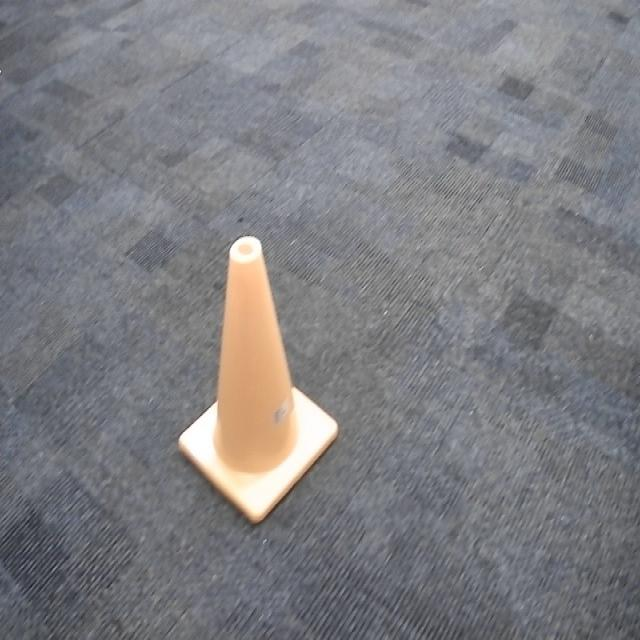cone: (179, 237, 338, 529)
